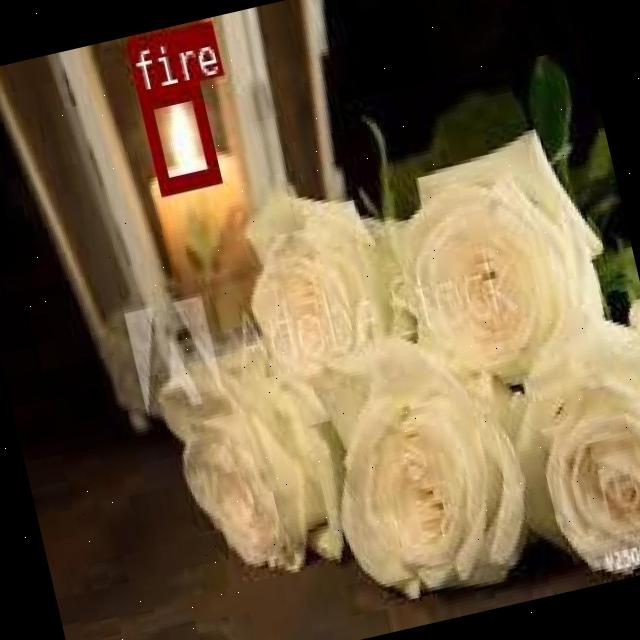fire: (138, 80, 218, 190)
